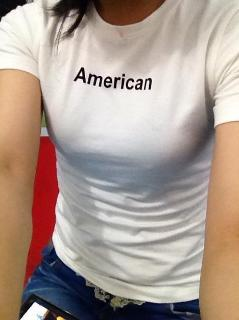short sleeve top: (0, 0, 239, 303)
